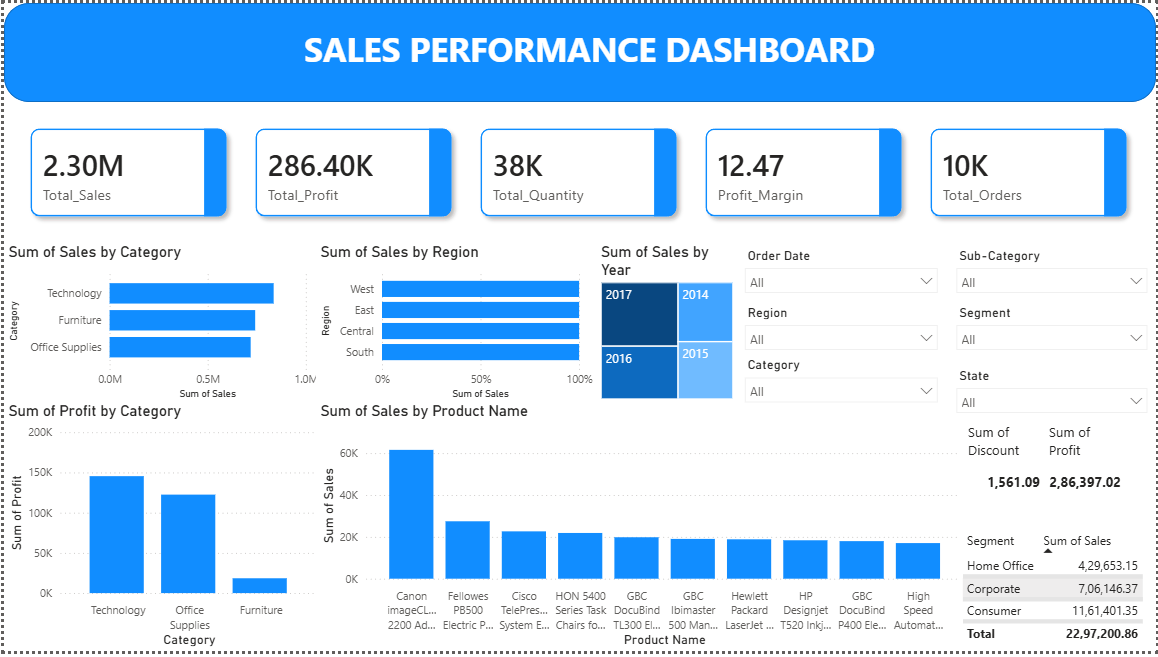

What the dashboard file says about the page in this screenshot:
{"tool":"powerbi","page":{"name":"Page 1","canvas":[1280,720],"ordinal":0},"visuals":[{"type":"cardVisual","fields":{"Data":["updated_Sales_Data.Total_Sales","updated_Sales_Data.Total_Profit","updated_Sales_Data.Total_Quantity","updated_Sales_Data.Profit_Margin","updated_Sales_Data.Total_Orders"]},"box":[0,110,1280,156],"z":0},{"type":"shape","box":[0,0,1280,110],"z":1000},{"type":"textbox","box":[114,20,1074,60],"z":2000},{"type":"clusteredBarChart","fields":{"Y":["Sum(updated_Sales_Data.Sales)"],"Category":["updated_Sales_Data.Category"]},"box":[0,266,354,178],"z":3000},{"type":"columnChart","fields":{"Y":["Sum(updated_Sales_Data.Profit)"],"Category":["updated_Sales_Data.Category"]},"box":[0,444,354,276],"z":4000},{"type":"hundredPercentStackedBarChart","fields":{"Category":["updated_Sales_Data.Region"],"Y":["Sum(updated_Sales_Data.Sales)"]},"box":[346,266,312,178],"z":5000},{"type":"columnChart","fields":{"Category":["updated_Sales_Data.Product Name"],"Y":["Sum(updated_Sales_Data.Sales)"]},"box":[346,444,724,276],"z":6000},{"type":"tableEx","fields":{"Values":["Sum(updated_Sales_Data.Discount)","Sum(updated_Sales_Data.Profit)"]},"box":[1060,458,210,102],"z":7000},{"type":"pivotTable","fields":{"Values":["Sum(updated_Sales_Data.Sales)"],"Rows":["updated_Sales_Data.Segment"]},"box":[1060,582,210,138],"z":8000},{"type":"treemap","fields":{"Group":["updated_Sales_Data.Year"],"Values":["Sum(updated_Sales_Data.Sales)"]},"box":[658,266,156,178],"z":9000},{"type":"slicer","fields":{"Values":["updated_Sales_Data.Order Date"]},"box":[814,266,234,64],"z":10000},{"type":"slicer","fields":{"Values":["updated_Sales_Data.Region"]},"box":[814,330,234,58],"z":11000},{"type":"slicer","fields":{"Values":["updated_Sales_Data.Category"]},"box":[814,388,234,70],"z":12000},{"type":"slicer","fields":{"Values":["updated_Sales_Data.Segment"]},"box":[1048,330,232,58],"z":13000},{"type":"slicer","fields":{"Values":["updated_Sales_Data.Sub-Category"]},"box":[1048,266,232,58],"z":14000},{"type":"slicer","fields":{"Values":["updated_Sales_Data.State"]},"box":[1048,400,232,58],"z":15000}]}

Visuals, with their boxes in screenshot pixels (x1, y1, x2, y2), scaled from the page's 1280x720 canvas onto the 1158x657 screenshot:
cardVisual - updated_Sales_Data.Total_Sales x updated_Sales_Data.Total_Profit: pyautogui.locateOnScreen(0, 100, 1157, 243)
shape: pyautogui.locateOnScreen(0, 0, 1157, 100)
textbox: pyautogui.locateOnScreen(103, 18, 1075, 73)
clusteredBarChart - Sum(updated_Sales_Data.Sales) x updated_Sales_Data.Category: pyautogui.locateOnScreen(0, 243, 320, 405)
columnChart - Sum(updated_Sales_Data.Profit) x updated_Sales_Data.Category: pyautogui.locateOnScreen(0, 405, 320, 656)
hundredPercentStackedBarChart - updated_Sales_Data.Region x Sum(updated_Sales_Data.Sales): pyautogui.locateOnScreen(313, 243, 595, 405)
columnChart - updated_Sales_Data.Product Name x Sum(updated_Sales_Data.Sales): pyautogui.locateOnScreen(313, 405, 968, 656)
tableEx - Sum(updated_Sales_Data.Discount) x Sum(updated_Sales_Data.Profit): pyautogui.locateOnScreen(959, 418, 1149, 511)
pivotTable - Sum(updated_Sales_Data.Sales) x updated_Sales_Data.Segment: pyautogui.locateOnScreen(959, 531, 1149, 656)
treemap - updated_Sales_Data.Year x Sum(updated_Sales_Data.Sales): pyautogui.locateOnScreen(595, 243, 736, 405)
slicer - updated_Sales_Data.Order Date: pyautogui.locateOnScreen(736, 243, 948, 301)
slicer - updated_Sales_Data.Region: pyautogui.locateOnScreen(736, 301, 948, 354)
slicer - updated_Sales_Data.Category: pyautogui.locateOnScreen(736, 354, 948, 418)
slicer - updated_Sales_Data.Segment: pyautogui.locateOnScreen(948, 301, 1157, 354)
slicer - updated_Sales_Data.Sub-Category: pyautogui.locateOnScreen(948, 243, 1157, 296)
slicer - updated_Sales_Data.State: pyautogui.locateOnScreen(948, 365, 1157, 418)
